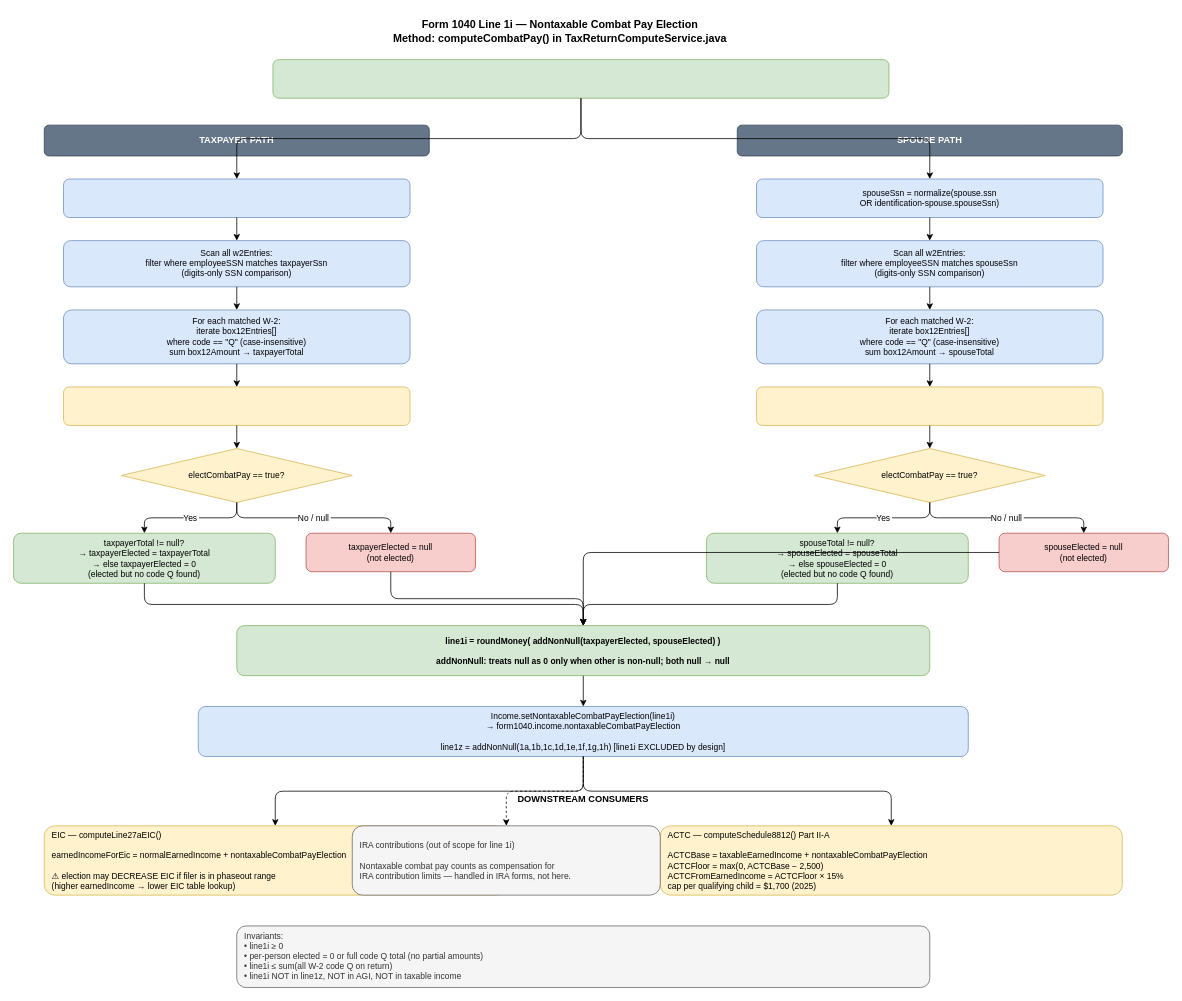
Some shapes in this 1182 by 1001 pixel diagram are drawn without their labels. Here are the shapes that lost their labels. From the top down, the box of each, then its label:
(272, 59, 889, 98): START: computeCombatPay( taxpayerData, spouseData, you, spouse, w2Entries, uid)
(63, 178, 410, 218): taxpayerSsn = normalize(you.ssn) (digits-only; null if absent)
(63, 386, 410, 425): Read electCombatPay from combat-pay-taxpayer form
(756, 386, 1103, 425): Read electCombatPay from combat-pay-spouse form
